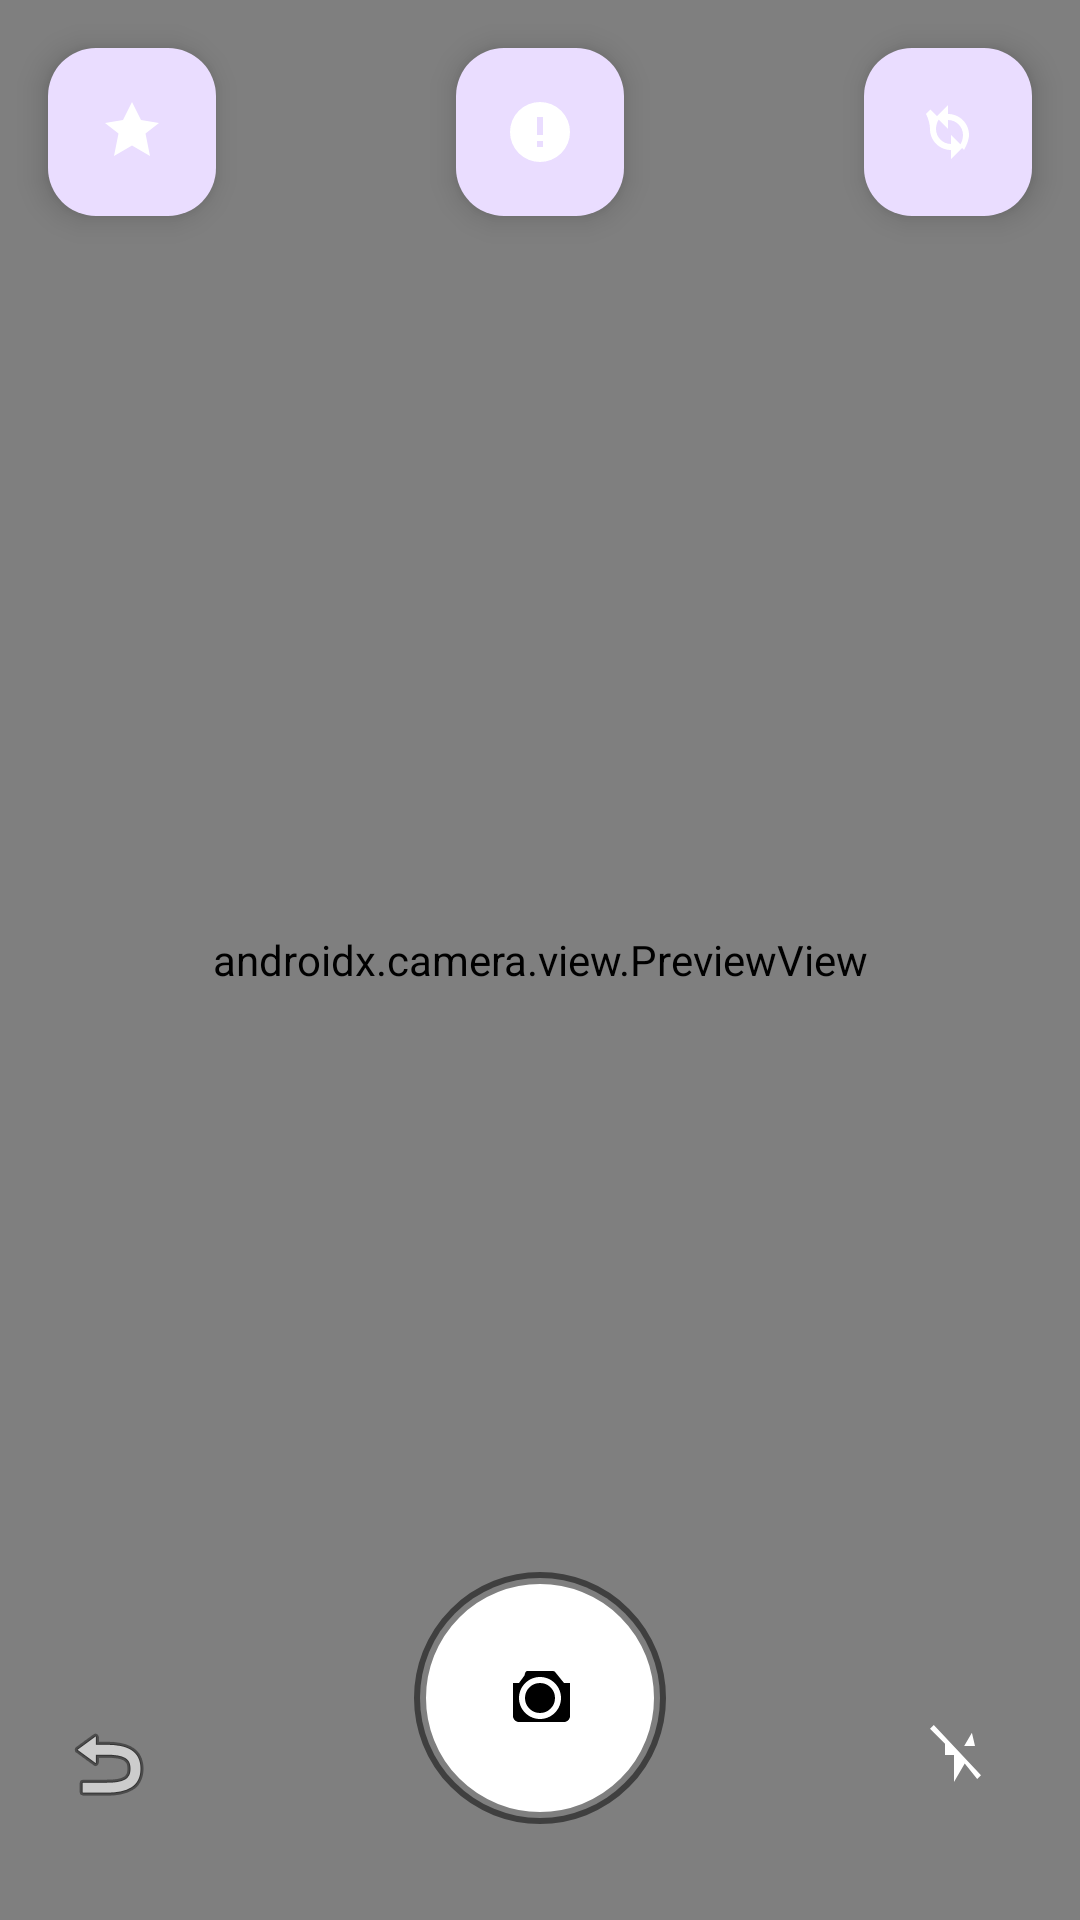

Icon click points for this 1080 × 1920 phone screenshot, format [x,y]:
Activar/Desactivar flash: [955,1753]
Cambiar cámara: [948,132]
Tomar foto: [540,1698]
Volver: [109,1765]
